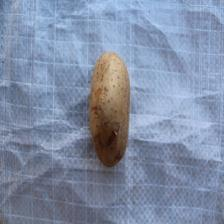Diseased-fungal potato: (86, 49, 131, 170)
